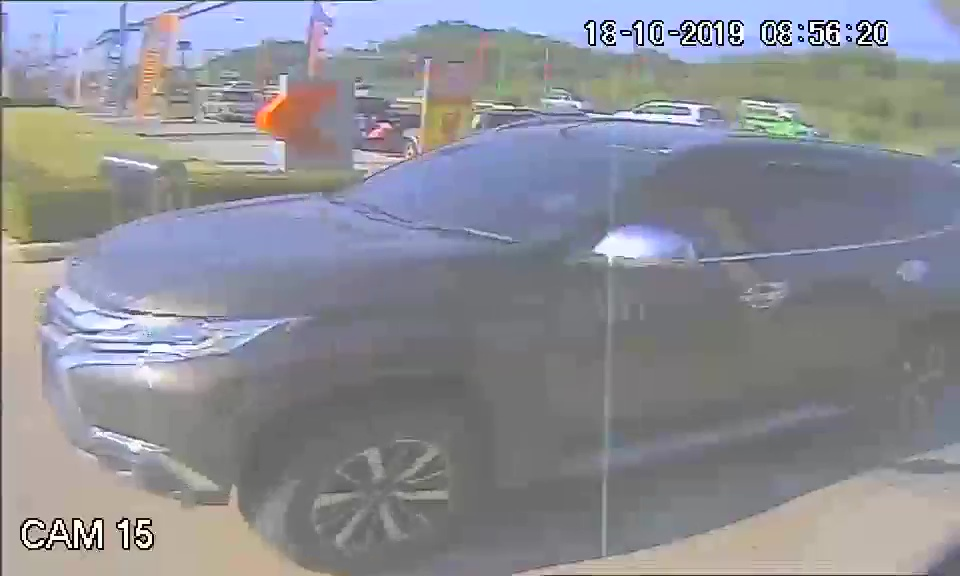pickup: (24, 107, 868, 523)
